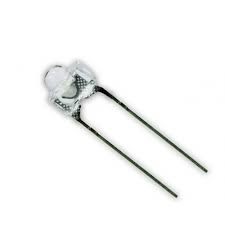LED: (37, 57, 208, 201)
